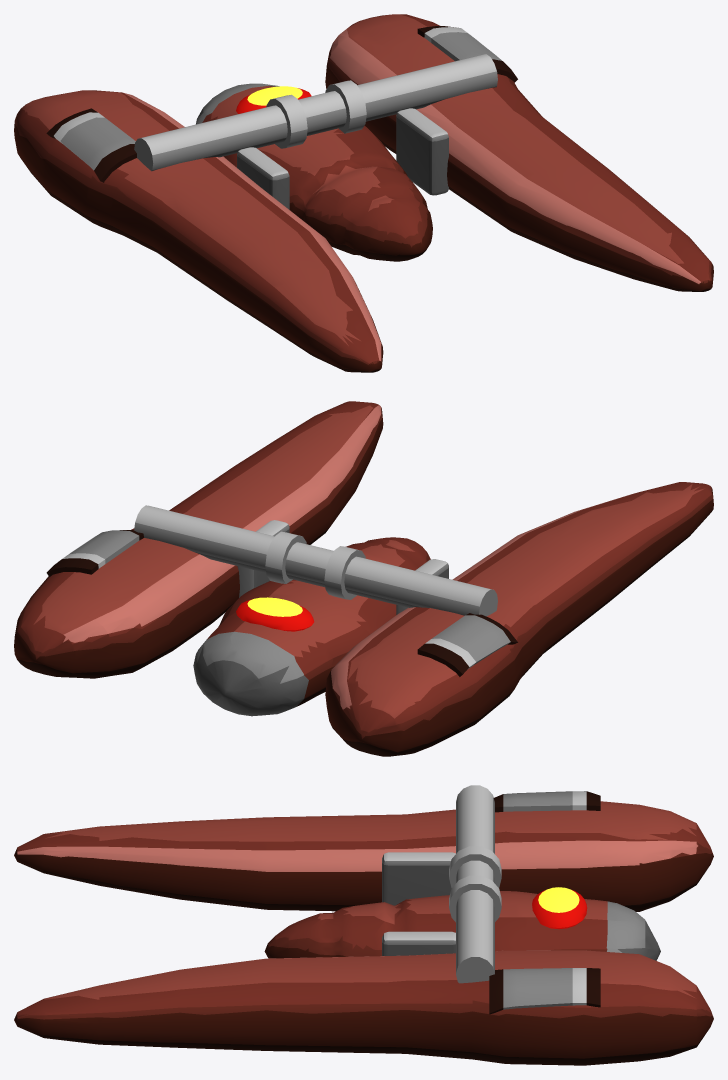
File: prong_ship.glb
3 renders of one model, top to bottom at view 1: azimuth 30°, elevation 25°; view 2: azimuth 150°, elevation 25°; view 3: azimuth 270°, elevation 25°, orthographic. The views are drawn at different scales.
Visible parts, largest first — view 1: prong_l, prong_r, pod, bar, guide1.0, plate, plate_r, guide-1.0, collar-1.0, collar1.0, core; view 2: prong_l, prong_r, pod, bar, plate, plate_r, core, collar-1.0, collar1.0, guide1.0; view 3: prong_r, prong_l, pod, bar, plate_r, guide-1.0, plate, core, guide1.0, collar1.0, collar-1.0.
Boxes of the visible parts, x1=… form: prong_l: x1=14, y1=90, x2=383, y2=372; prong_r: x1=325, y1=14, x2=713, y2=291; pod: x1=196, y1=83, x2=432, y2=261; bar: x1=134, y1=54, x2=497, y2=171; guide1.0: x1=396, y1=108, x2=448, y2=195; plate: x1=46, y1=108, x2=136, y2=182; plate_r: x1=417, y1=26, x2=517, y2=82; guide-1.0: x1=237, y1=147, x2=289, y2=209; collar-1.0: x1=266, y1=94, x2=307, y2=148; collar1.0: x1=325, y1=80, x2=366, y2=133; core: x1=236, y1=86, x2=311, y2=113; prong_l: x1=325, y1=482, x2=713, y2=756; prong_r: x1=14, y1=401, x2=383, y2=678; pod: x1=193, y1=537, x2=430, y2=716; bar: x1=134, y1=505, x2=497, y2=616; plate: x1=417, y1=613, x2=517, y2=676; plate_r: x1=46, y1=530, x2=143, y2=576; core: x1=236, y1=597, x2=314, y2=631; collar-1.0: x1=324, y1=546, x2=365, y2=599; collar1.0: x1=265, y1=531, x2=306, y2=583; guide1.0: x1=237, y1=520, x2=289, y2=597; prong_r: x1=14, y1=950, x2=713, y2=1065; prong_l: x1=14, y1=801, x2=713, y2=911; pod: x1=264, y1=891, x2=660, y2=960; bar: x1=456, y1=785, x2=494, y2=983; plate_r: x1=489, y1=968, x2=600, y2=1014; guide-1.0: x1=382, y1=852, x2=455, y2=905; plate: x1=494, y1=791, x2=600, y2=812; core: x1=532, y1=887, x2=587, y2=929; guide1.0: x1=382, y1=931, x2=455, y2=955; collar1.0: x1=449, y1=875, x2=501, y2=922; collar-1.0: x1=449, y1=846, x2=501, y2=887.
Bounding box in the file's own units: 18.5 × 5.03 × 25.14.
